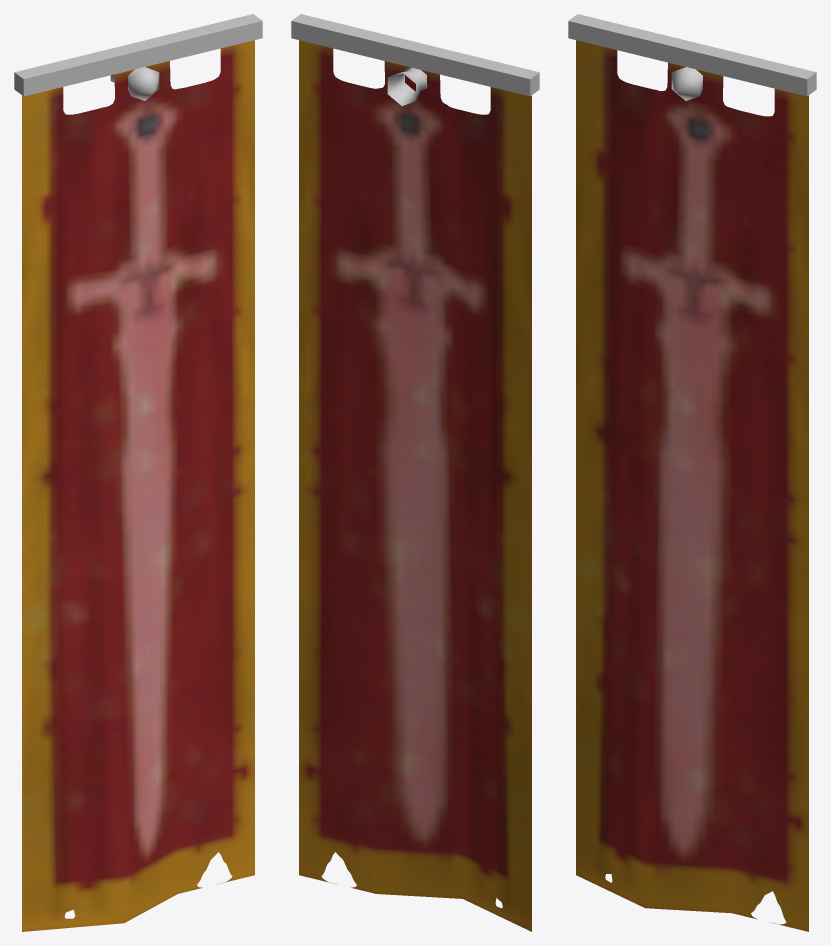
Rendered from Sign_1A.fbx.
3 renders of one model, left to right at view 1: azimuth 30°, elevation 25°; view 2: azimuth 150°, elevation 25°; view 3: azimuth 330°, elevation 25°, orthographic.
Visible parts, largest first — view 1: Alpha, polySurface7450; view 2: Alpha, polySurface7450; view 3: Alpha, polySurface7450.
Boxes of the visible parts, x1,y1,x2,y2 form: Alpha: (22,40,254,931); polySurface7450: (14,14,262,100); Alpha: (299,40,531,931); polySurface7450: (291,14,539,105); Alpha: (576,40,808,931); polySurface7450: (568,14,816,100).
Bounding box in the file's own units: 1.03 × 3.52 × 0.2244.
